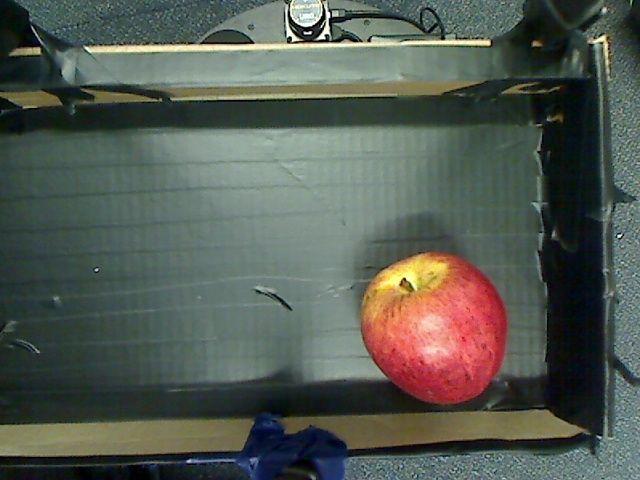apple: (336, 251, 522, 420)
